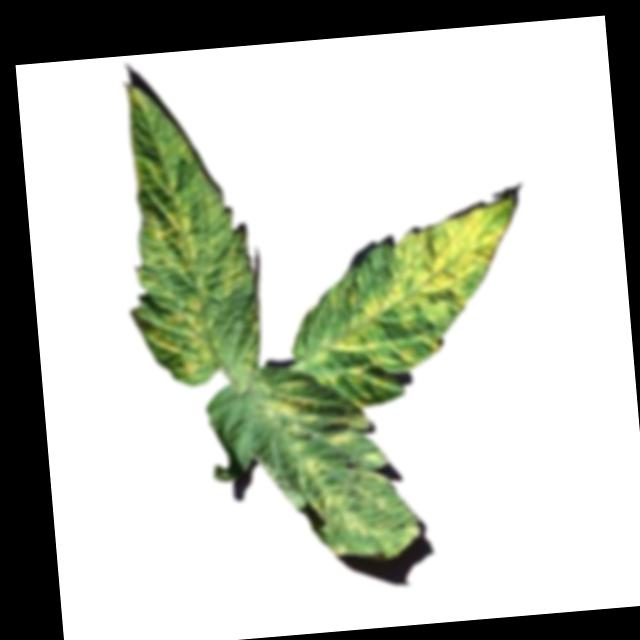Leaf_Mold: (289, 187, 535, 409), (114, 71, 270, 391), (257, 371, 420, 568)
